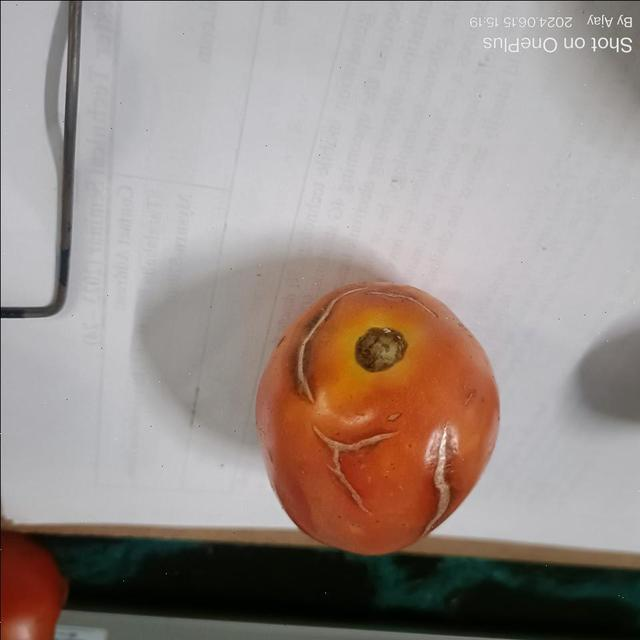Cracking Fruit: (227, 193, 299, 346)
